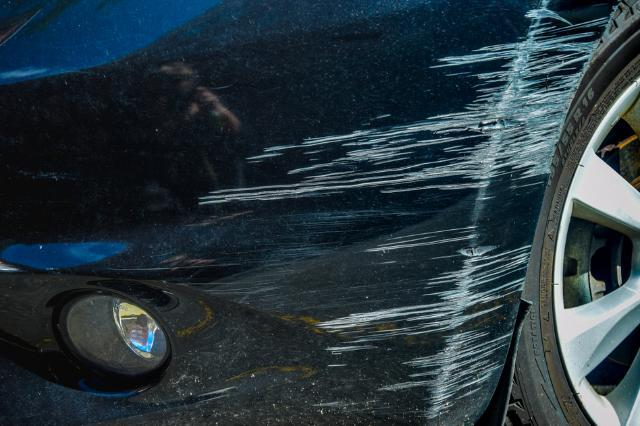Bumper: (188, 0, 591, 426)
